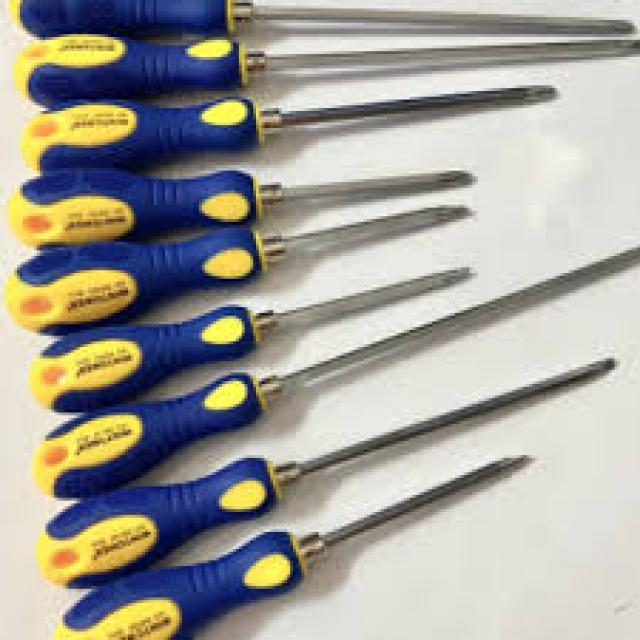screwdriver: (36, 353, 618, 589), (46, 450, 534, 640), (29, 260, 473, 417), (1, 199, 474, 336), (5, 26, 640, 112), (16, 80, 560, 176), (2, 162, 486, 253), (5, 2, 640, 34)
